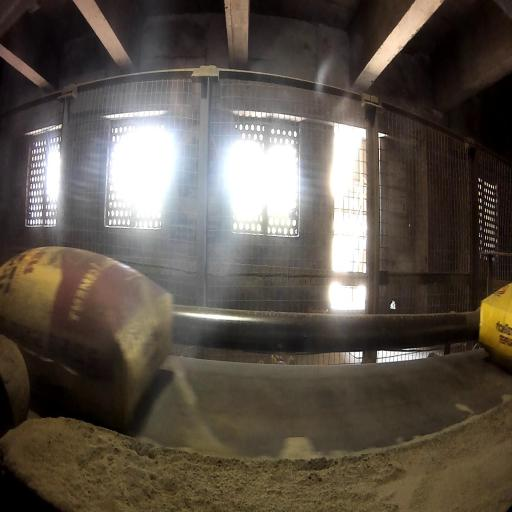c-belt-sack-count: (0, 247, 173, 428), (479, 283, 512, 357)
